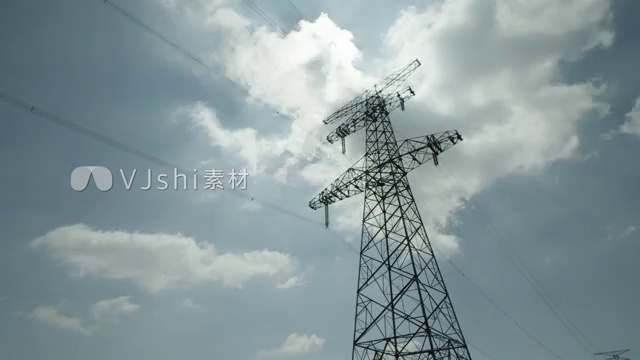tower_body: (313, 52, 480, 360)
tower_foot: (351, 304, 471, 360)
tower_head: (315, 63, 424, 137)
